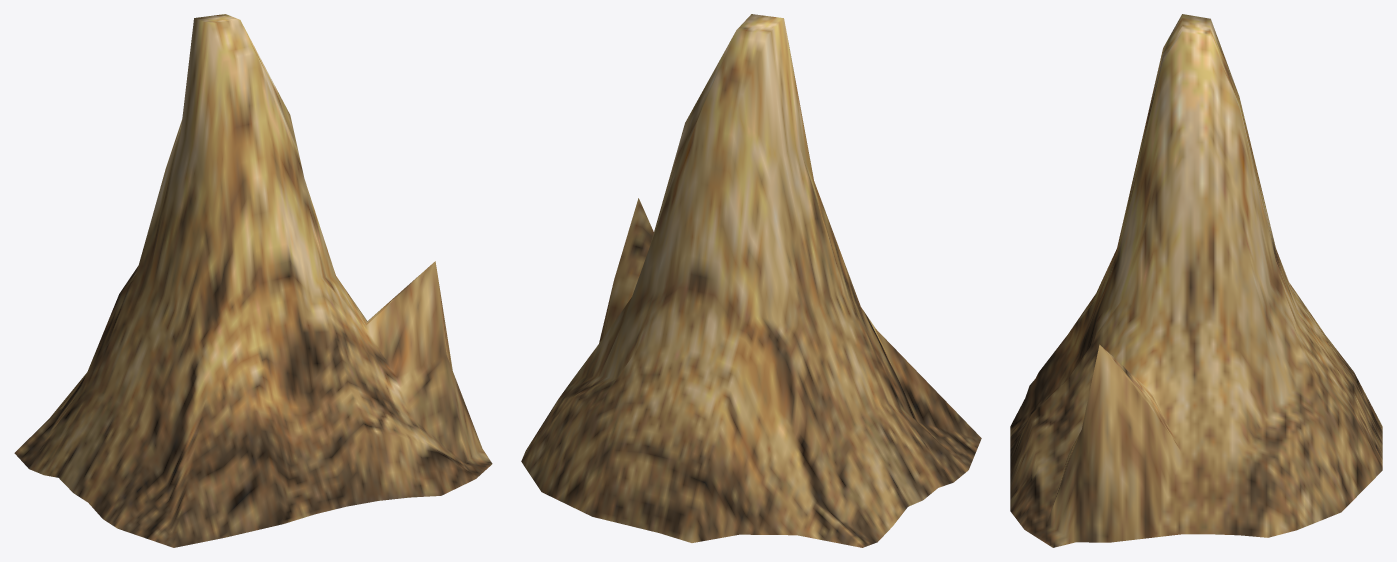
3 renders of one model, left to right at view 1: azimuth 30°, elevation 25°; view 2: azimuth 150°, elevation 25°; view 3: azimuth 270°, elevation 25°, orthographic. The views are drawn at different scales.
Visible parts, largest first — view 1: SMDImport; view 2: SMDImport; view 3: SMDImport.
Boxes of the visible parts, left/top/right/bottom form: SMDImport: left=14, top=14, right=492, bottom=547; SMDImport: left=521, top=14, right=981, bottom=547; SMDImport: left=1010, top=14, right=1382, bottom=547.
Size of the model in its own units: 98.31 by 118 by 92.25.
